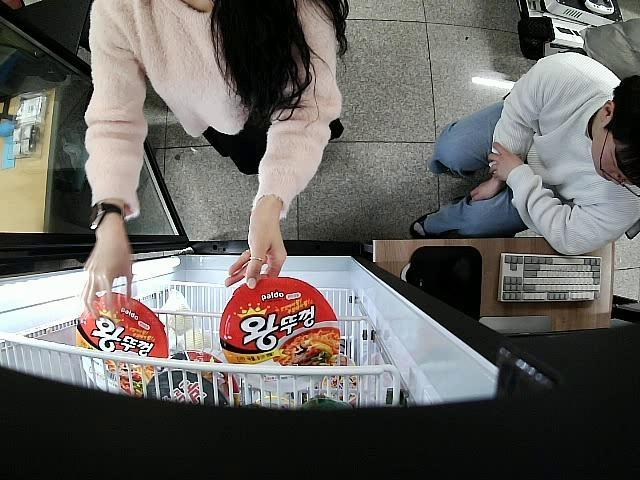10_wangTtukkeong: (221, 276, 342, 391), (76, 294, 167, 398)
